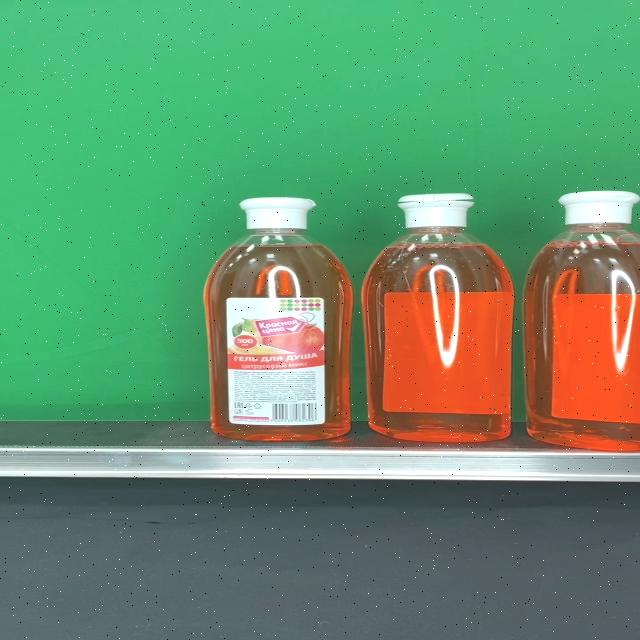Bottle: (361, 193, 515, 442), (204, 196, 354, 440), (527, 190, 640, 452)
Cap: (560, 190, 640, 226), (241, 197, 319, 231), (400, 193, 476, 227)
